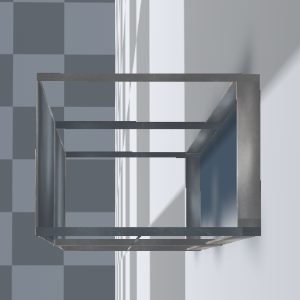Rack: (33, 71, 262, 253)
